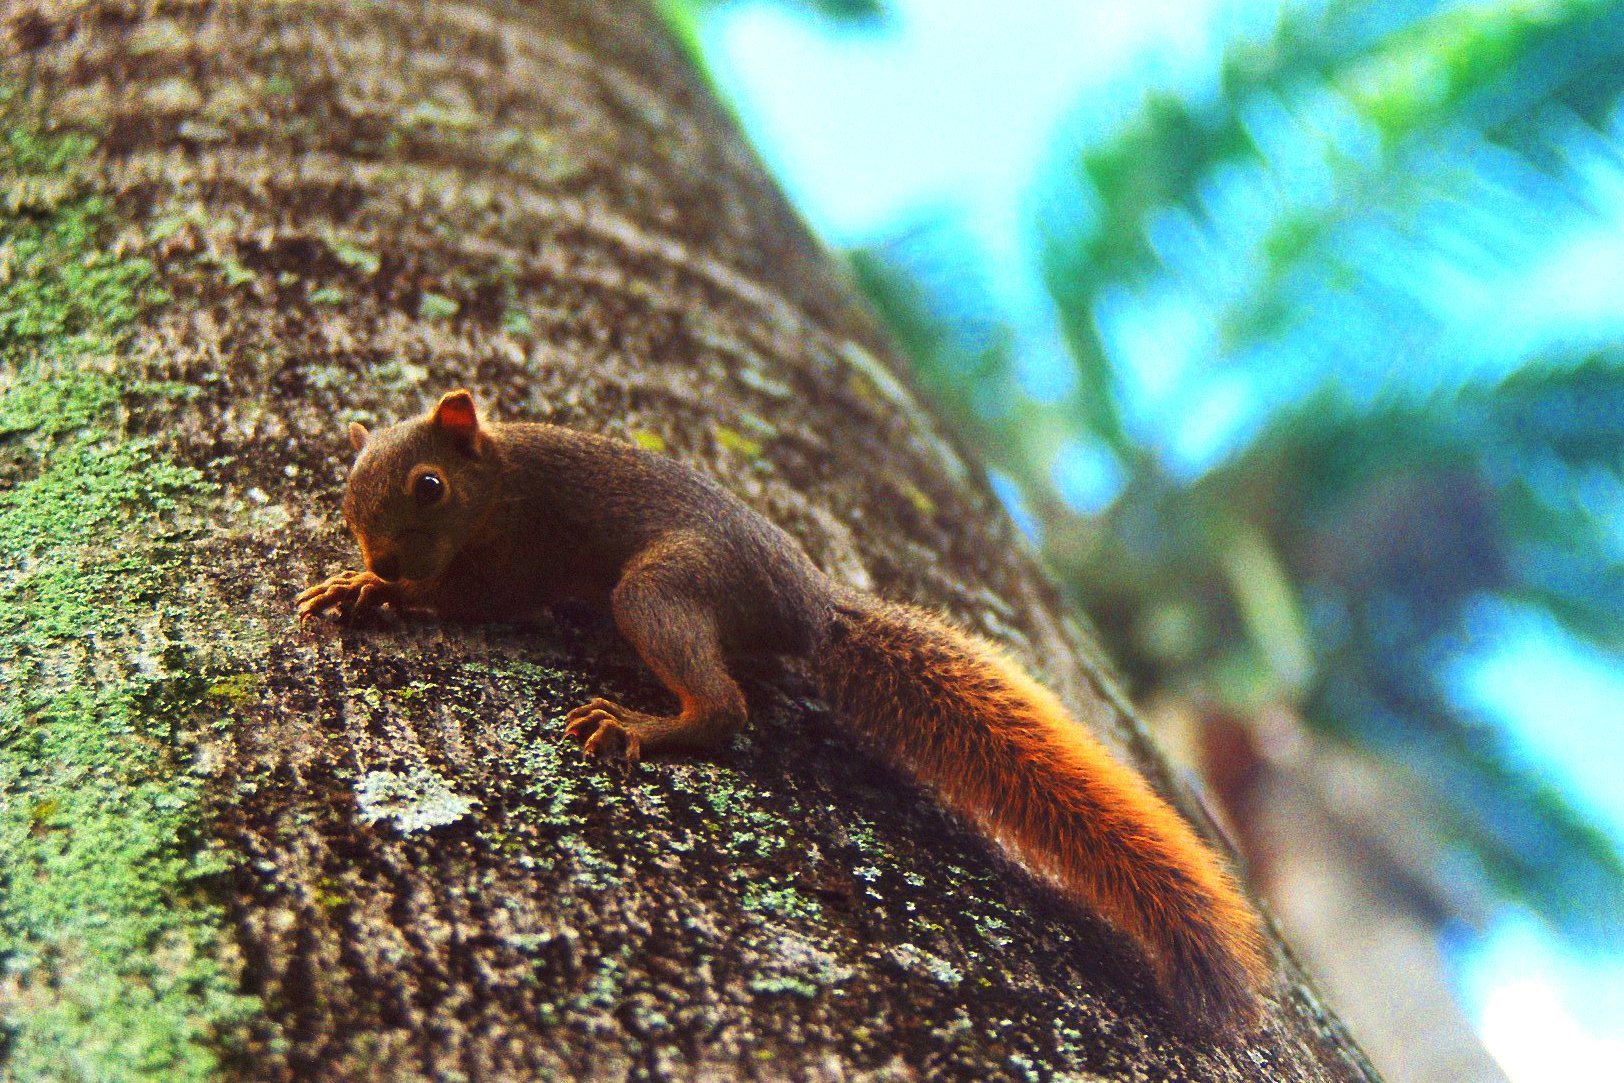Ardilla: (317, 382, 808, 774)
